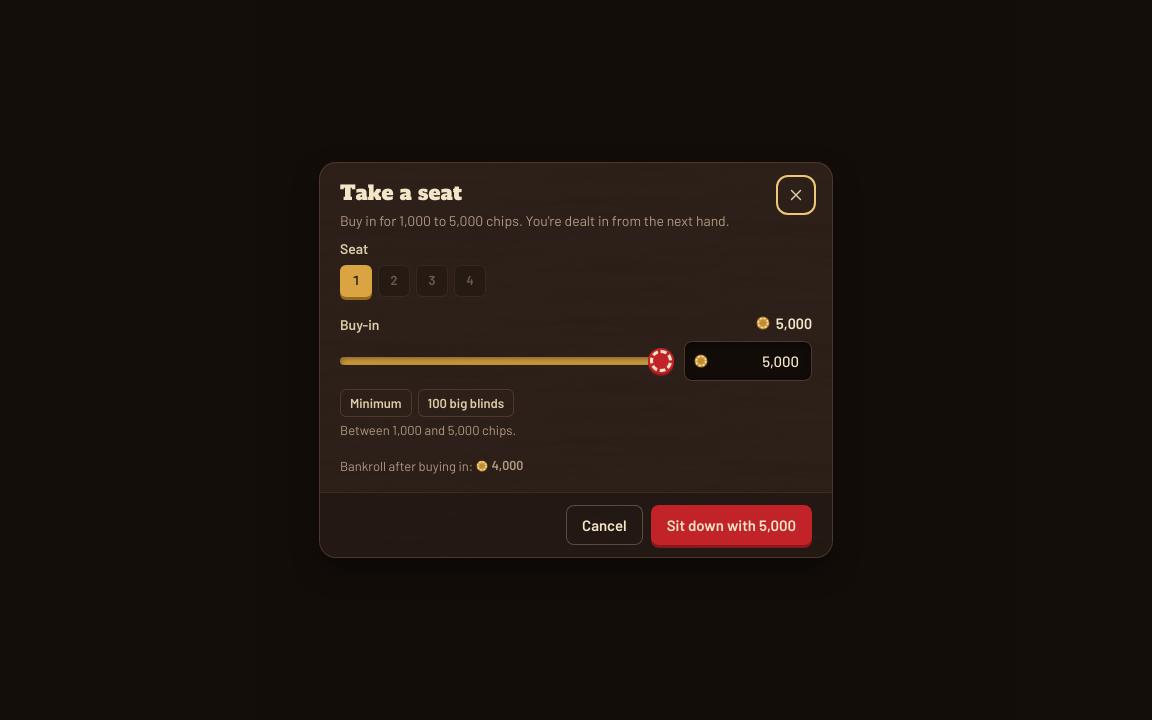
Scenario: <TakeSeatDialog> › shows the server refusal inline
Click the button "Sit down with 5,000". click: (731, 525)
box: [651,505,812,545]
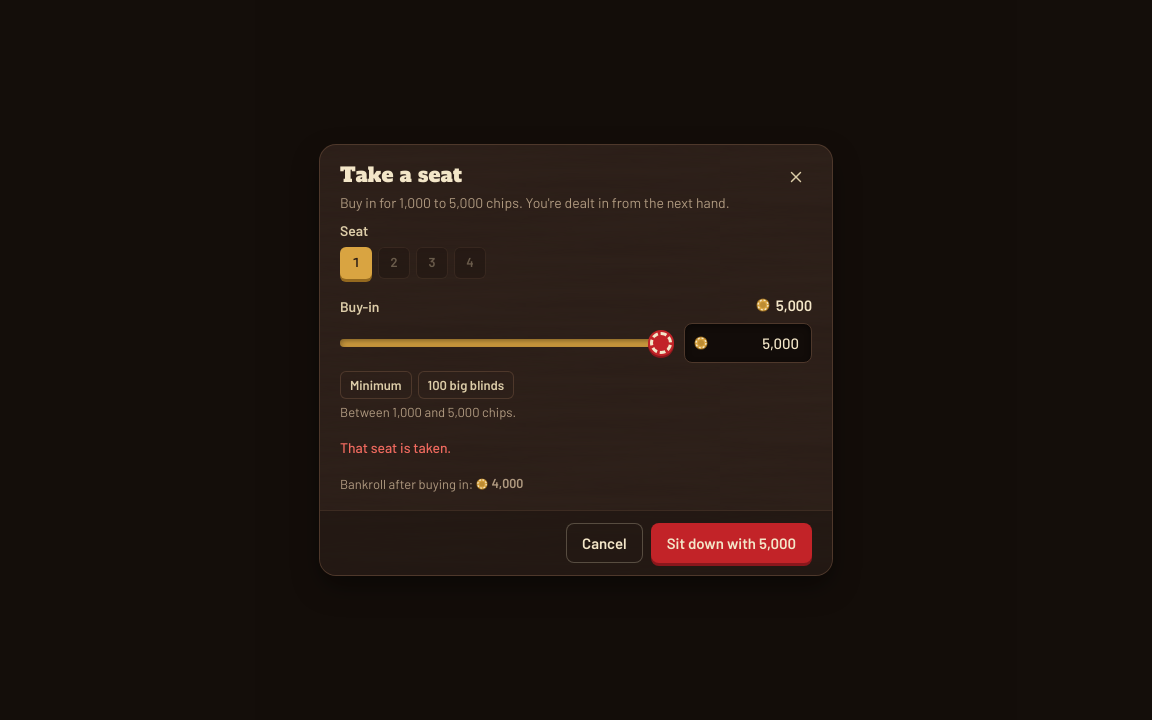
Now the text "That seat is taken." is shown, box [340,439,451,456]
